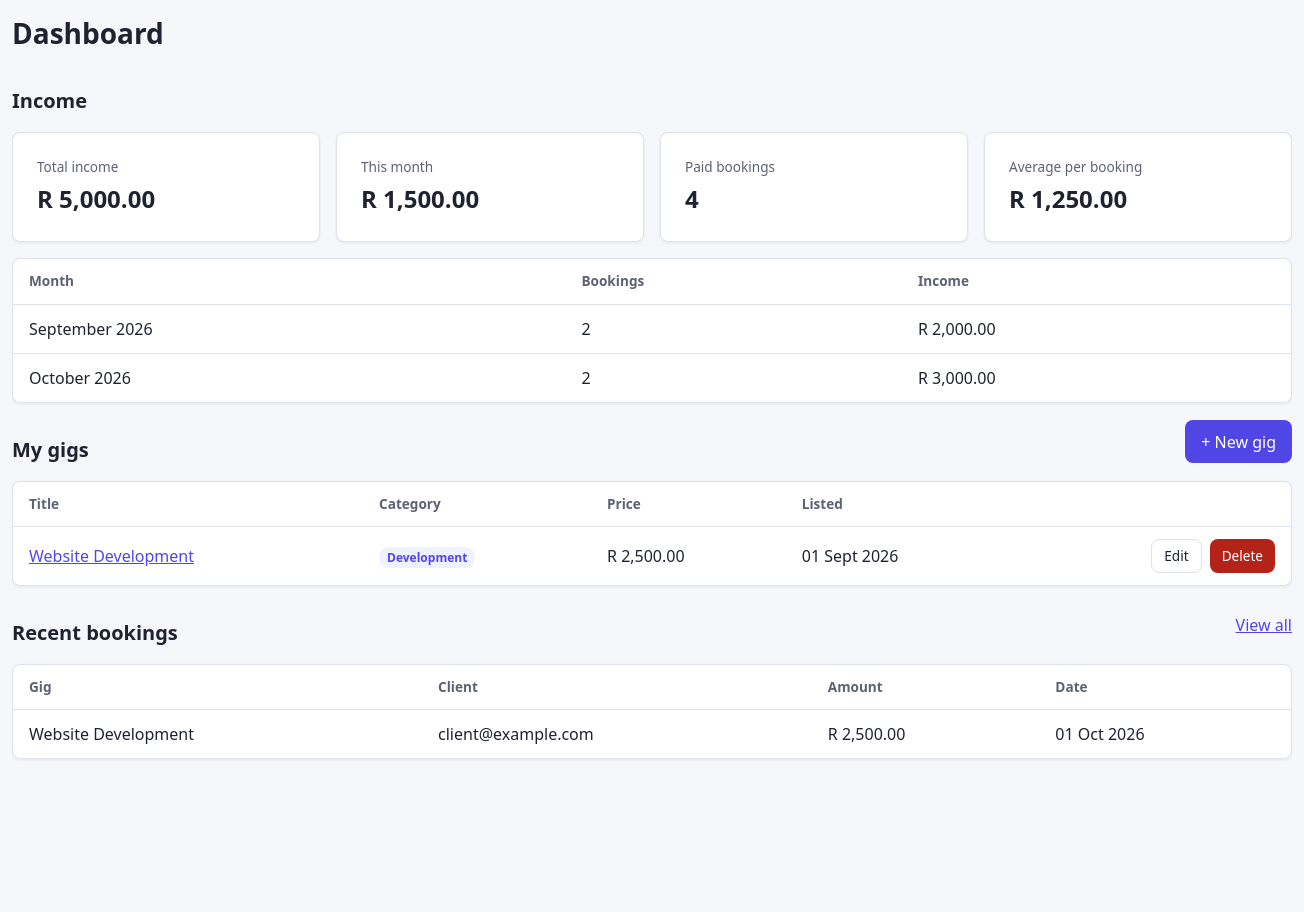
Test case: FreelancerDashboard › displays an error when deleting a gig fails
Expected: the link "Website Development" is shown, [29,545,194,567]
Click the button "Delete" at [1242, 556], box [1210,539,1275,573]
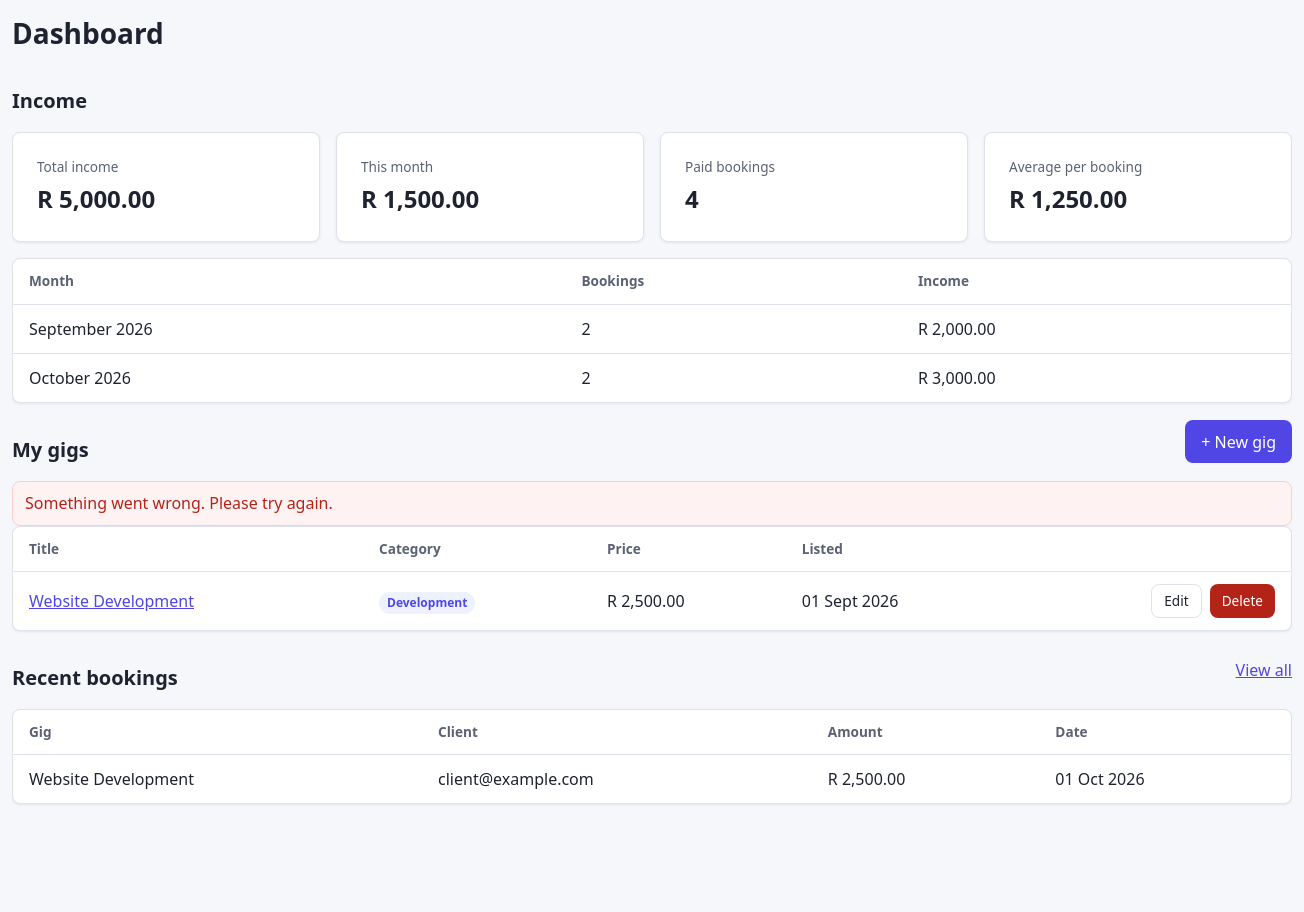
Expected: the link "Website Development" is shown, [29,590,194,612]
Expected: the message reads "Something went wrong. Please try again.", [25,492,333,514]
